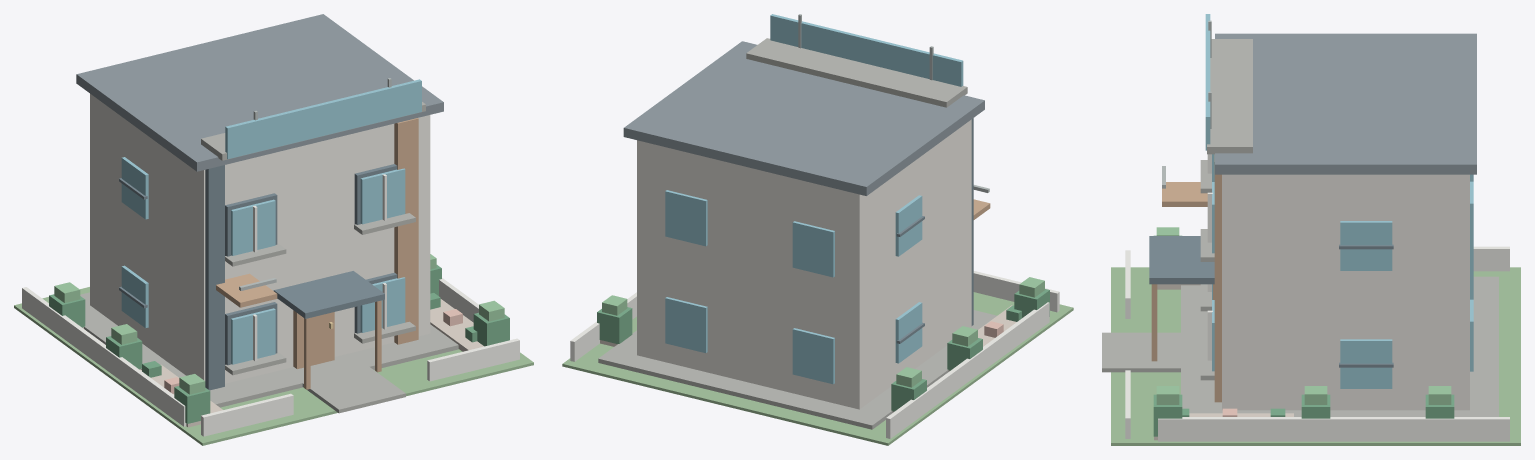
Rendered from building-type-r.gltf.
The picture shows the model from 3 angles, left to right: view 1: azimuth 30°, elevation 25°; view 2: azimuth 150°, elevation 25°; view 3: azimuth 270°, elevation 25°; orthographic projection. The views are drawn at different scales.
Parts seen in each view (by area): view 1: Wall, DarkRoof, BlueGlass, Stone, Dark, White, Wood, Grass, TreeLeaf, LeafLight, WarmWall; view 2: Wall, DarkRoof, BlueGlass, Stone, Grass, White, TreeLeaf, LeafLight, Dark; view 3: Wall, DarkRoof, Stone, Grass, White, BlueGlass, Wood, Dark, TreeLeaf, LeafLight, WarmWall.
Boxes of the visible parts, x1,y1,x2,y2 form: Wall: [90, 94, 430, 383]; DarkRoof: [76, 14, 443, 171]; BlueGlass: [121, 79, 421, 364]; Stone: [80, 102, 458, 413]; Dark: [119, 164, 397, 390]; White: [22, 174, 519, 436]; Wood: [216, 118, 418, 389]; Grass: [14, 287, 533, 445]; TreeLeaf: [49, 265, 509, 423]; LeafLight: [54, 254, 504, 394]; WarmWall: [82, 299, 483, 427]; Wall: [637, 119, 971, 409]; DarkRoof: [623, 41, 984, 195]; BlueGlass: [665, 14, 963, 384]; Stone: [598, 38, 996, 429]; Grass: [562, 292, 1073, 445]; White: [570, 271, 1059, 438]; TreeLeaf: [597, 289, 1049, 411]; LeafLight: [602, 277, 1044, 387]; Dark: [896, 118, 973, 343]; Wall: [1222, 174, 1469, 410]; DarkRoof: [1215, 33, 1476, 174]; Stone: [1102, 39, 1498, 416]; Grass: [1111, 267, 1520, 445]; White: [1125, 154, 1509, 441]; BlueGlass: [1205, 14, 1473, 388]; Wood: [1151, 154, 1221, 402]; Dark: [1149, 236, 1393, 367]; TreeLeaf: [1153, 235, 1454, 436]; LeafLight: [1156, 227, 1451, 404]; WarmWall: [1154, 284, 1293, 440].
Bounding box in the file's own units: 10.4 × 8.31 × 10.47.
